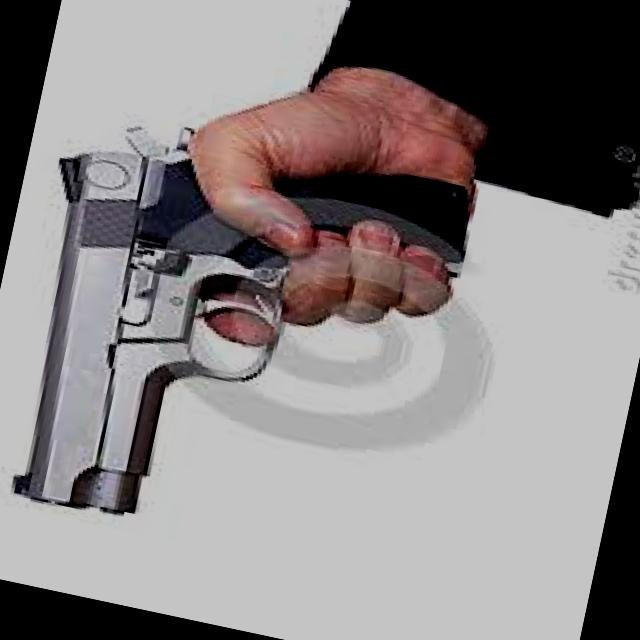handgun: (0, 96, 477, 580)
